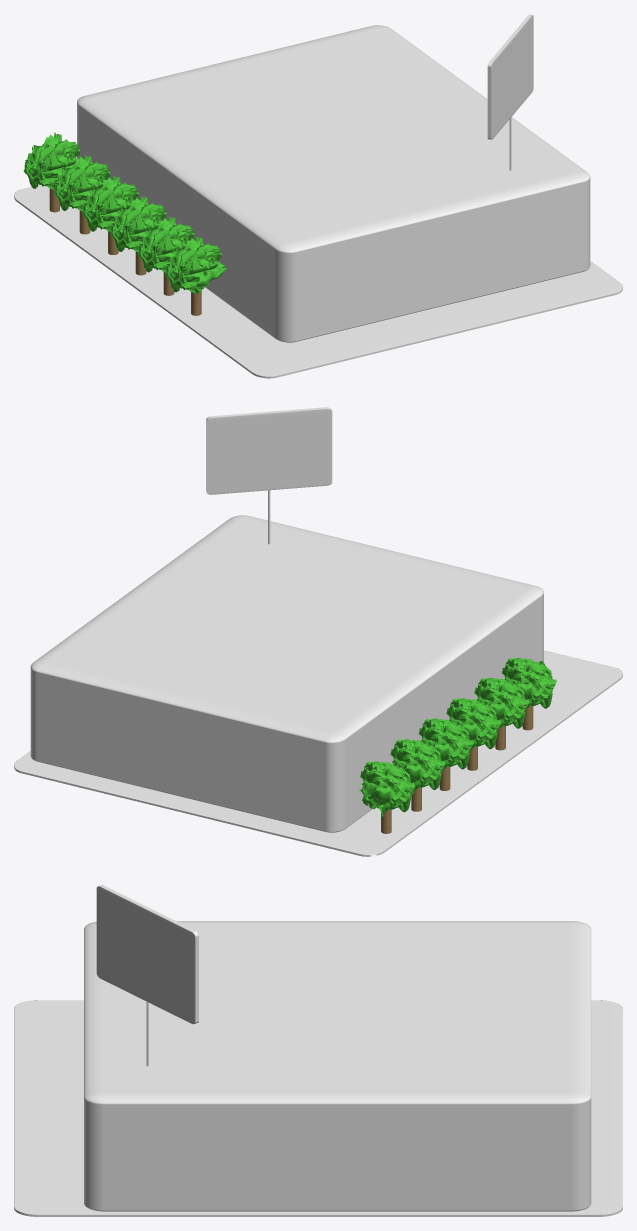
The model's file is mall4.glb.
3 views of the same model, one above another, from view 1: azimuth 30°, elevation 25°; view 2: azimuth 150°, elevation 25°; view 3: azimuth 270°, elevation 25° (orthographic). The views are drawn at different scales.
Parts seen in each view (by area): view 1: house, land, Torus 2 (×6), sign, Torus 3 (×2), Torus, Torus 4; view 2: house, land, sign, Torus 3 (×3), Torus 2 (×3); view 3: house, land, sign.
Part boxes in pixels (x1,y1,x2,y2): house: (77, 25, 590, 342); land: (14, 185, 622, 378); Torus 2 (×6): (31, 139, 221, 282); sign: (487, 14, 533, 139); Torus 3 (×2): (23, 145, 226, 292); Torus: (167, 236, 209, 293); Torus 4: (28, 151, 76, 172); house: (30, 515, 543, 832); land: (14, 650, 622, 856); sign: (206, 407, 332, 494); Torus 3 (×3): (359, 737, 469, 812); Torus 2 (×3): (360, 718, 473, 817); house: (84, 921, 591, 1211); land: (14, 1000, 622, 1216); sign: (96, 885, 198, 1024).
Bounding box in the file's own units: 2.05 × 1.18 × 2.4.
40 materials, 6 textured.
